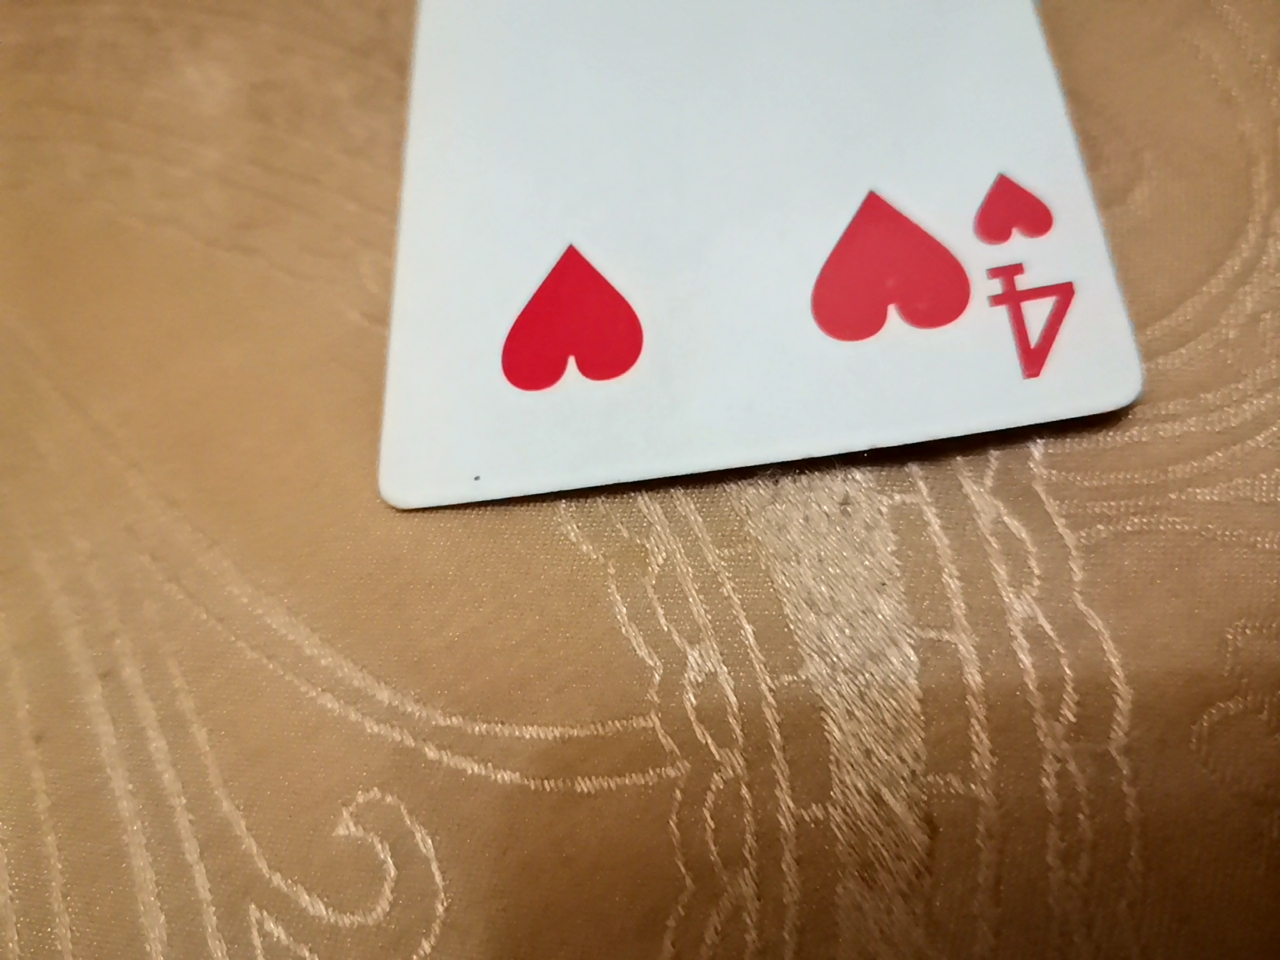hx 4: (360, 1, 1119, 541)
